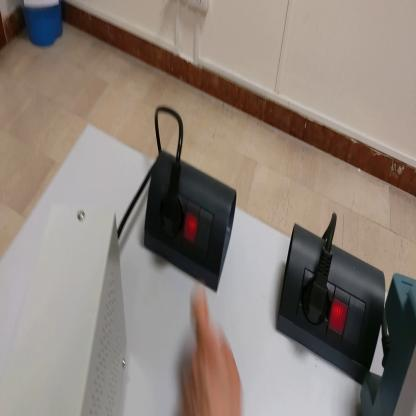hand: (182, 289, 243, 416)
oscilloscope: (359, 275, 416, 415)
power supply: (1, 202, 130, 415)
socket: (277, 223, 387, 387), (143, 145, 237, 290)
